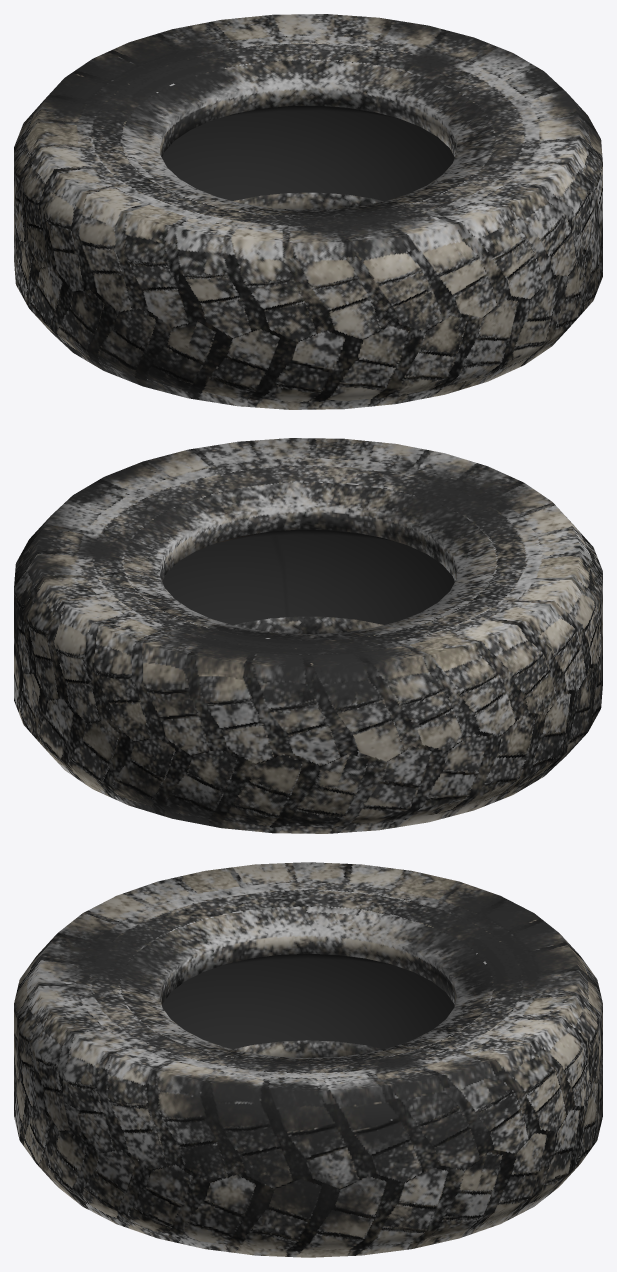
Rendered from wheel_2.fbx.
3 renders of one model, top to bottom at view 1: azimuth 30°, elevation 25°; view 2: azimuth 150°, elevation 25°; view 3: azimuth 270°, elevation 25°, orthographic.
Parts seen in each view (by area): view 1: wheel_2_LOD0; view 2: wheel_2_LOD0; view 3: wheel_2_LOD0.
Part boxes in pixels (box(x1,y1,x2,y2)): wheel_2_LOD0: box(14, 14, 602, 409); wheel_2_LOD0: box(14, 438, 602, 833); wheel_2_LOD0: box(14, 862, 602, 1257).
Size of what is drawn, in the model's own units: 0.6259 by 0.1948 by 0.6259.
